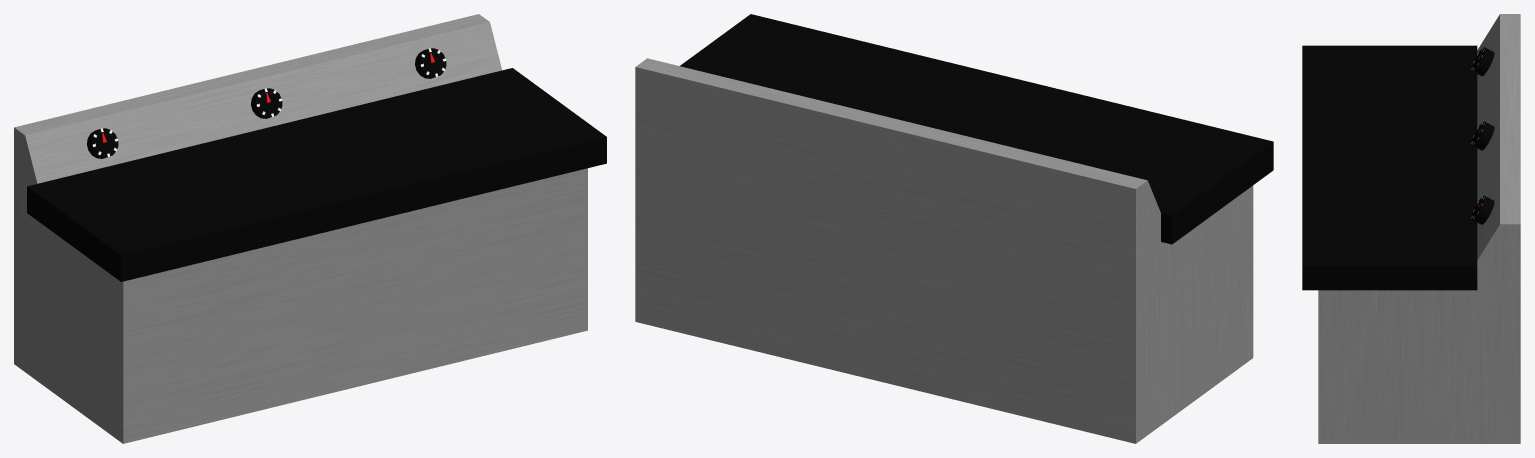
The model's file is Grill.fbx.
3 views of the same model, side by side, from view 1: azimuth 30°, elevation 25°; view 2: azimuth 150°, elevation 25°; view 3: azimuth 270°, elevation 25° (orthographic). The views are drawn at different scales.
Parts seen in each view (by area): view 1: pCube2; view 2: pCube2; view 3: pCube2.
Boxes of the visible parts, <box> form: pCube2: <box>14,14,606,443</box>; pCube2: <box>635,14,1273,443</box>; pCube2: <box>1302,14,1520,443</box>.
Bounding box in the file's own units: 7.4 × 3.45 × 3.1.
